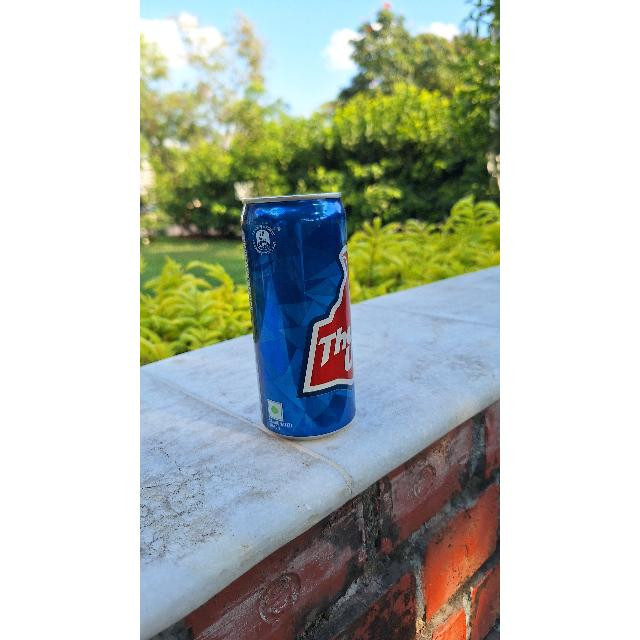Thums Up: (247, 198, 365, 434)
